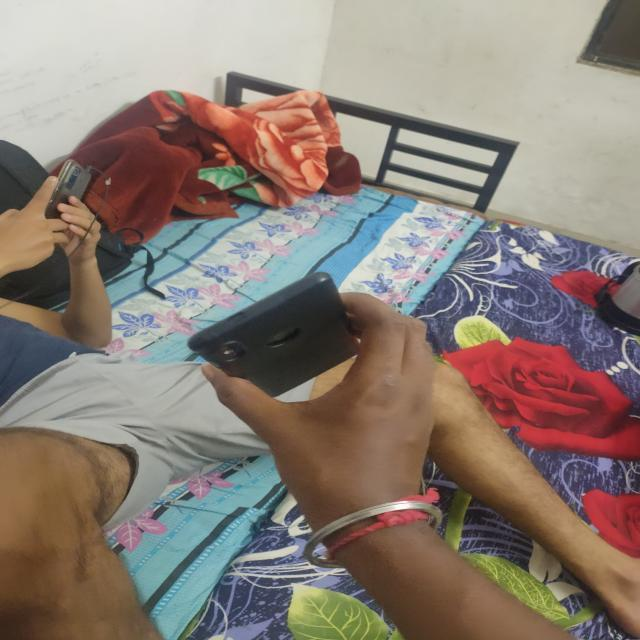Phone: (184, 267, 364, 398), (44, 151, 94, 221)
